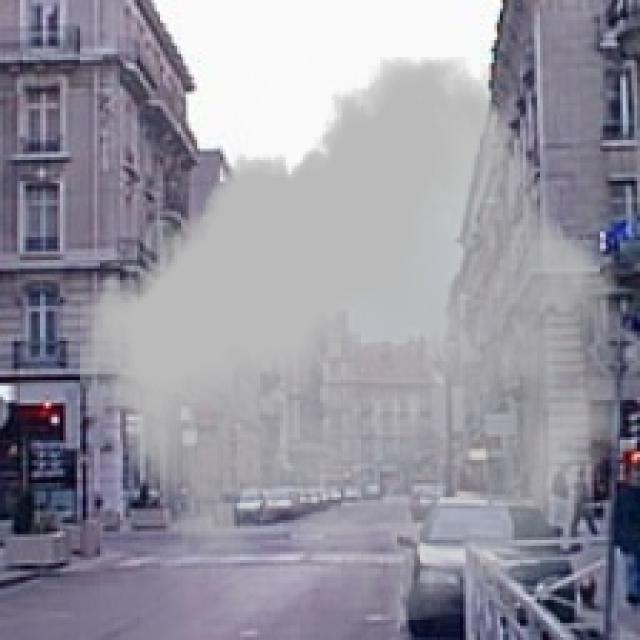smoke: (80, 57, 626, 620)
